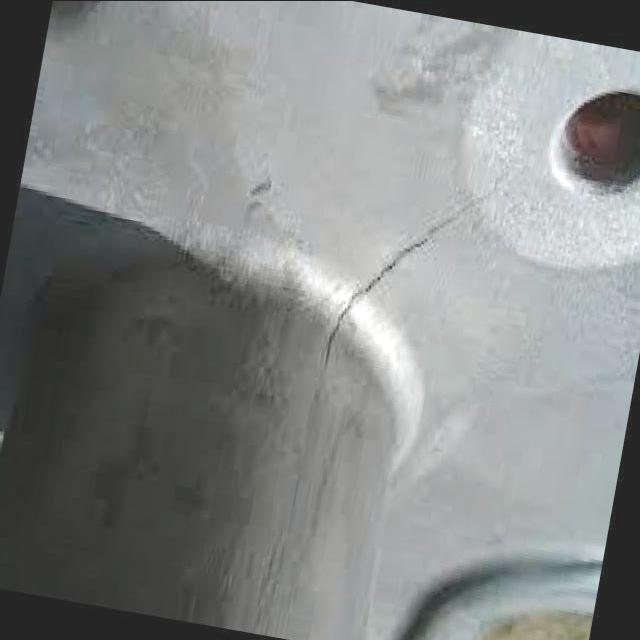defect: (322, 170, 506, 376)
